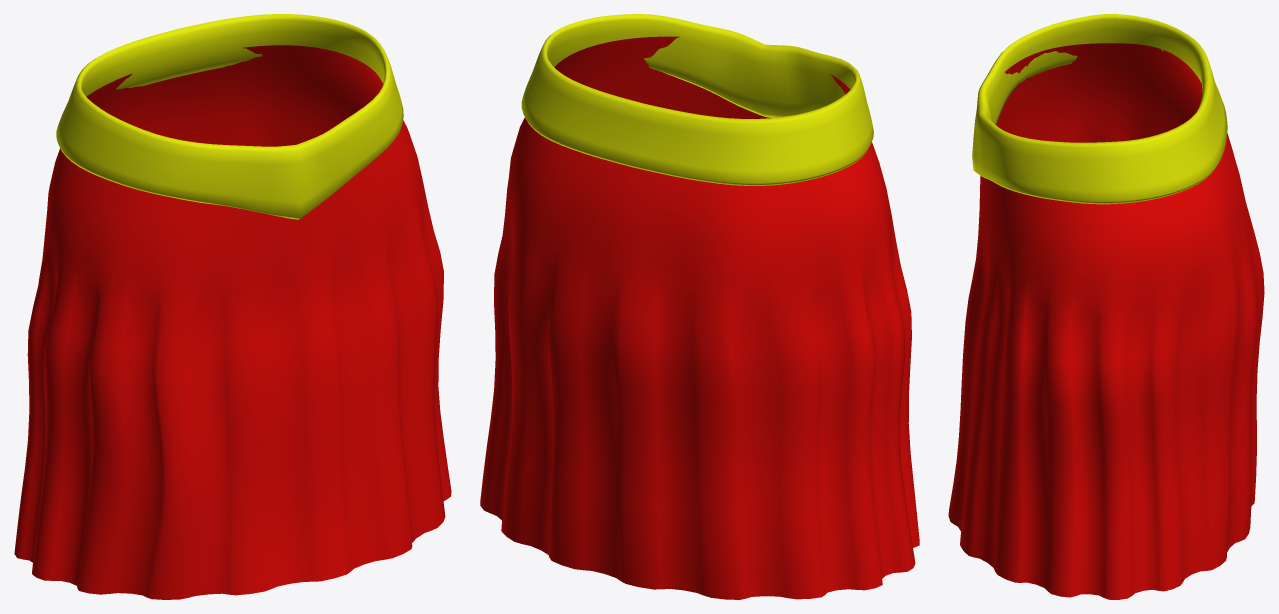
Rendered from Harry_Skirt_Boy.fbx.
3 views of the same model, side by side, from view 1: azimuth 30°, elevation 25°; view 2: azimuth 150°, elevation 25°; view 3: azimuth 270°, elevation 25° (orthographic). The views are drawn at different scales.
Parts seen in each view (by area): view 1: Skirt; view 2: Skirt; view 3: Skirt.
Boxes of the visible parts, bbox=[...] form: Skirt: bbox=[14, 14, 451, 599]; Skirt: bbox=[480, 14, 919, 599]; Skirt: bbox=[948, 14, 1264, 599].
Size of the model in its own units: 15.86 by 16.92 by 11.31.
